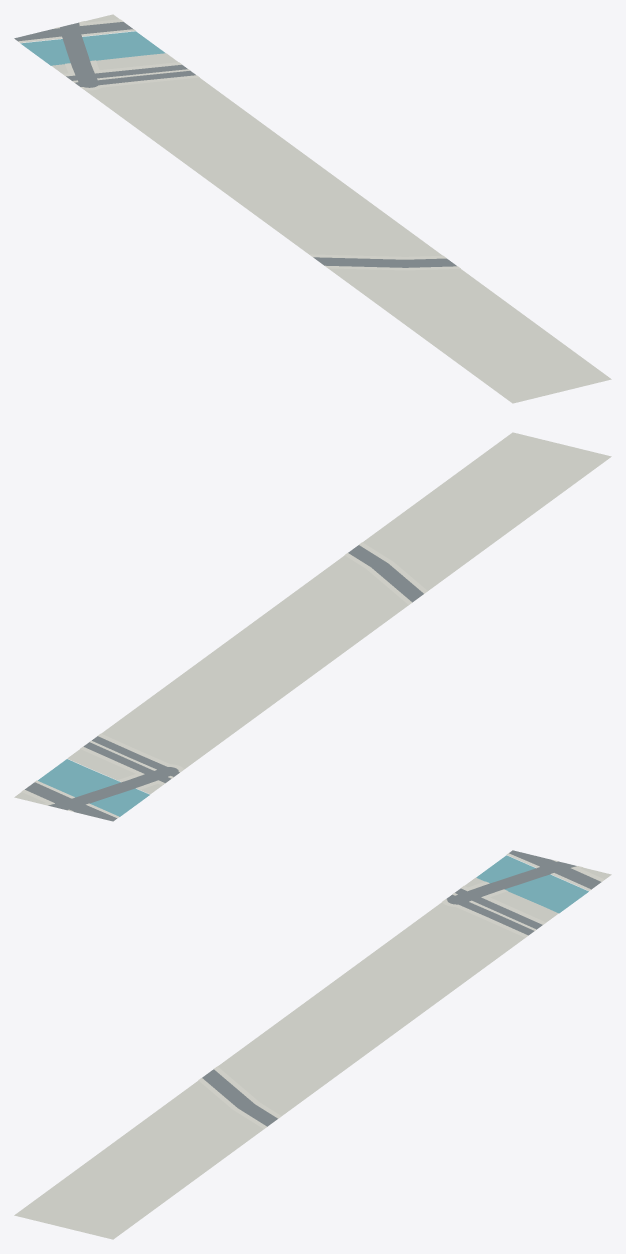
3 views of the same model, one above another, from view 1: azimuth 30°, elevation 25°; view 2: azimuth 150°, elevation 25°; view 3: azimuth 330°, elevation 25° (orthographic).
Visible parts, largest first — view 1: city; view 2: city; view 3: city.
Boxes of the visible parts, x1,y1,x2,y2 form: city: [14, 14, 611, 403]; city: [14, 432, 611, 821]; city: [14, 850, 611, 1239].
Bounding box in the file's own units: 57.42 × 0.4 × 500.
